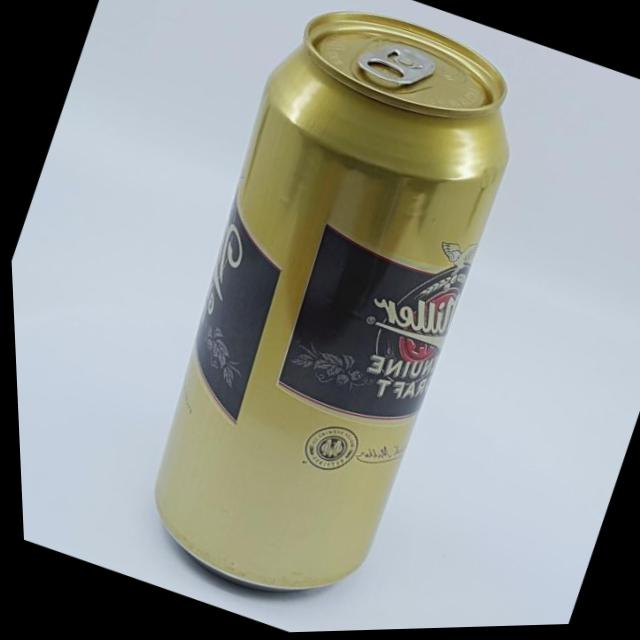metal: (156, 13, 507, 588)
